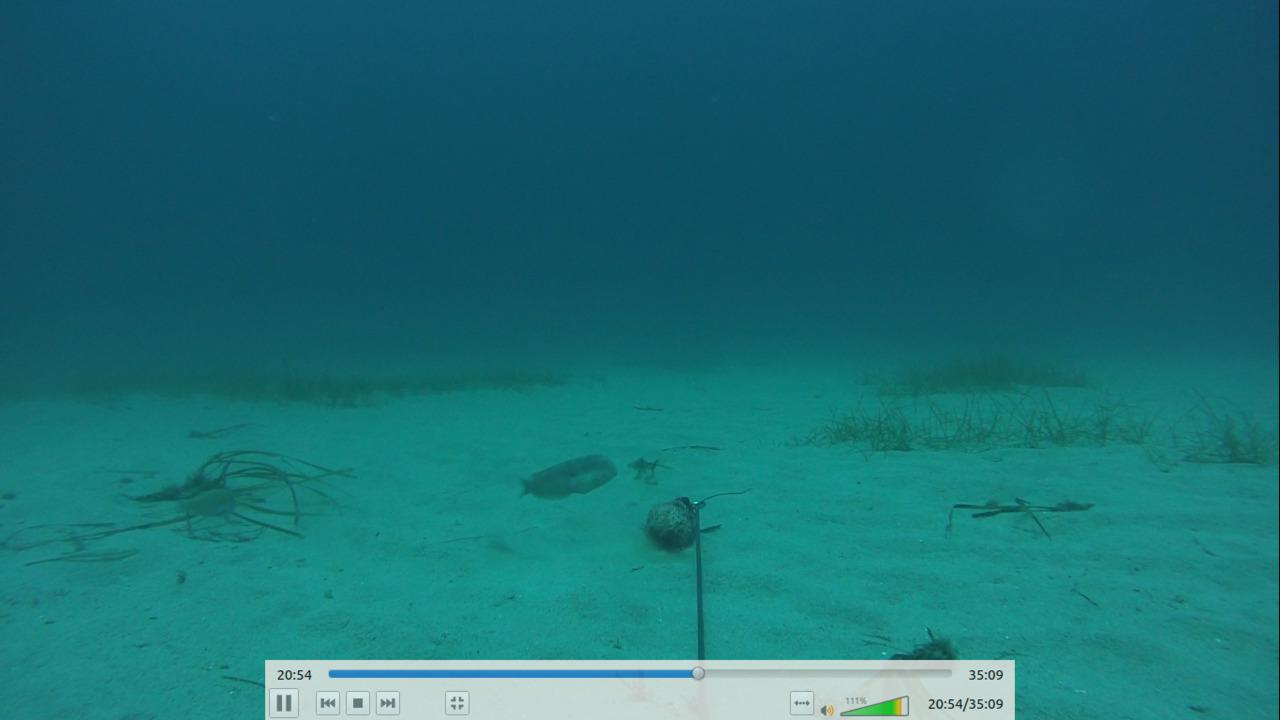raor: (513, 450, 620, 502), (172, 485, 240, 519)
